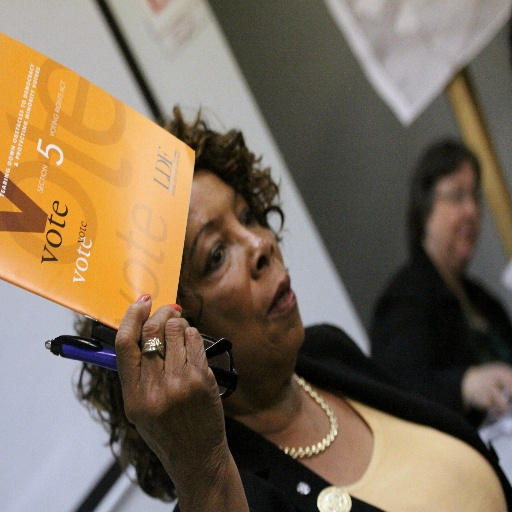hand: (118, 305, 228, 466), (465, 358, 511, 413)
